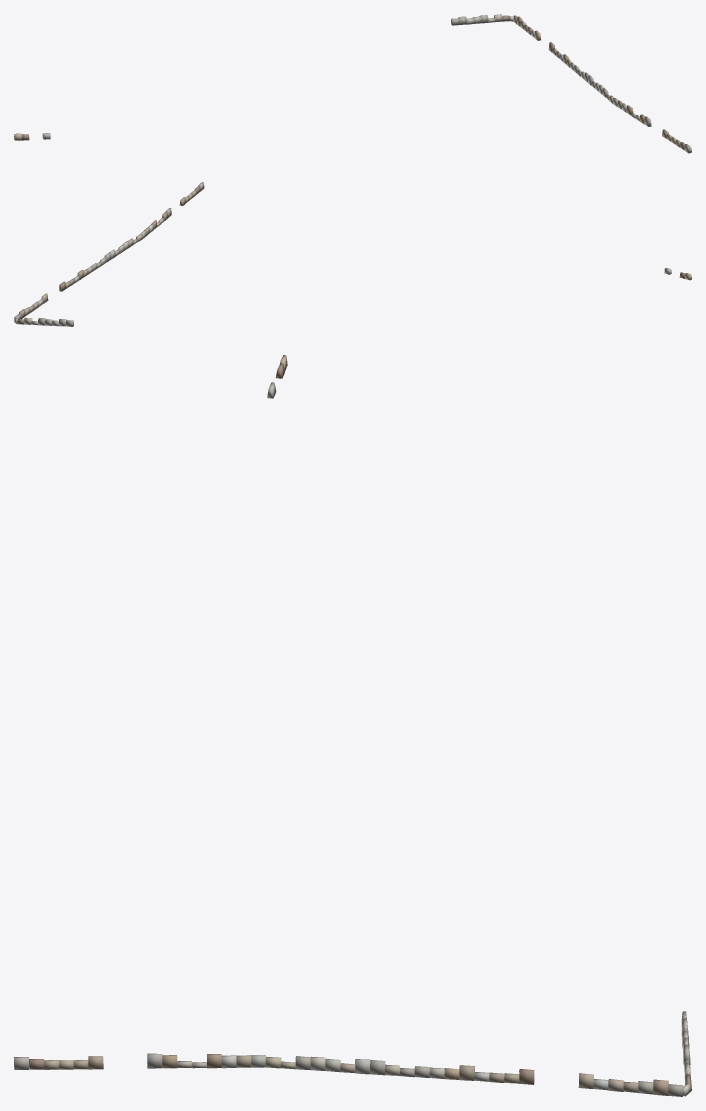
File: farm_-28_-34_far.glb
3 views of the same model, one above another, from view 1: azimuth 30°, elevation 25°; view 2: azimuth 150°, elevation 25°; view 3: azimuth 270°, elevation 25° (orthographic). The views are drawn at different scales.
Visible parts, largest first — view 1: geometry_0; view 2: geometry_0; view 3: geometry_0.
Part boxes in pixels (bbox=[...]): geometry_0: bbox=[14, 14, 691, 153]; geometry_0: bbox=[14, 182, 691, 326]; geometry_0: bbox=[14, 355, 691, 1096].
Size of the model in its own units: 134 by 24.66 by 72.1.
